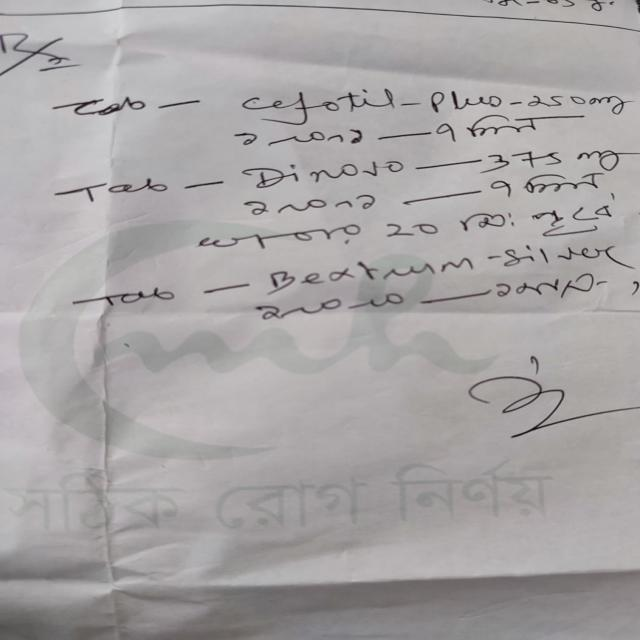Bextram Silver: (249, 244, 636, 288)
Cefotil Plus: (229, 87, 513, 116)
Dinovo: (235, 154, 415, 188)
